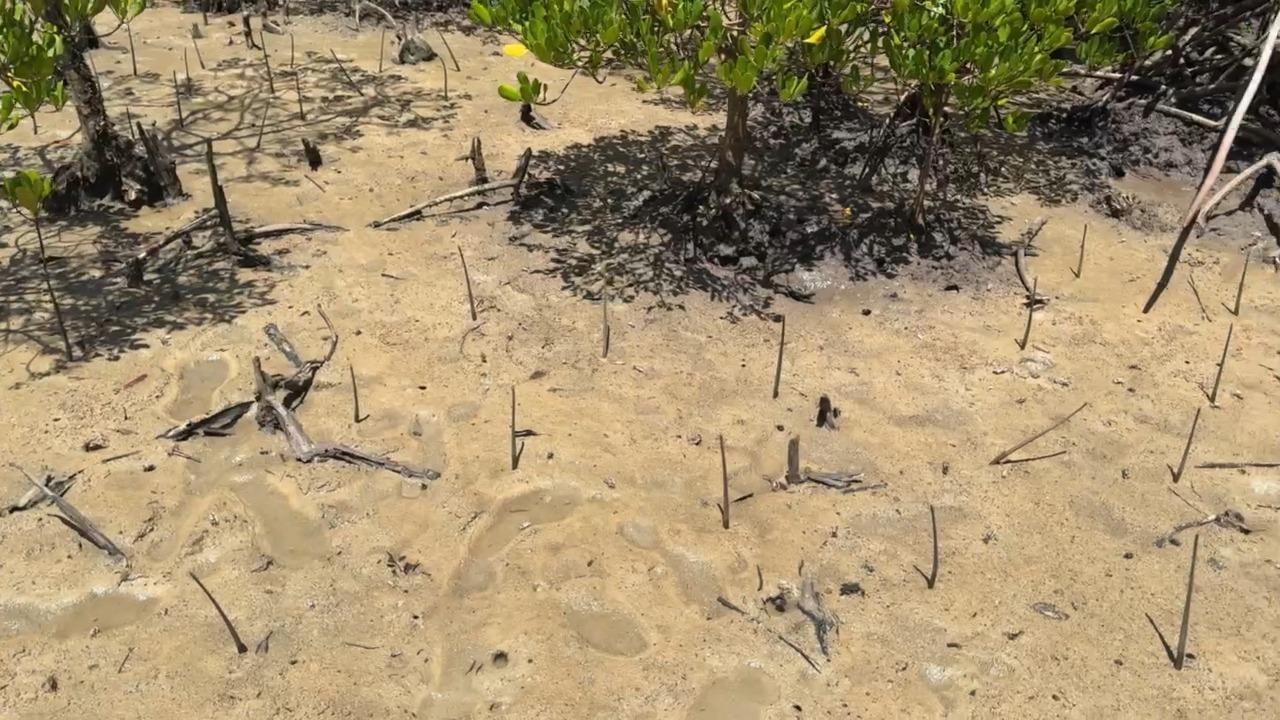Tree: (0, 169, 74, 361), (989, 402, 1087, 465), (189, 573, 245, 652), (1174, 534, 1199, 669), (1173, 406, 1201, 483), (1211, 324, 1233, 403), (332, 49, 363, 96), (458, 245, 477, 320), (1021, 277, 1037, 351), (772, 316, 786, 397), (1234, 252, 1251, 315), (719, 435, 730, 530), (437, 30, 461, 72), (260, 31, 276, 93), (928, 505, 939, 589), (172, 68, 186, 127), (189, 29, 205, 67), (601, 282, 609, 357), (350, 363, 360, 421), (256, 104, 269, 148), (1078, 224, 1087, 279), (128, 22, 137, 76), (295, 71, 304, 119), (511, 386, 516, 470), (440, 56, 449, 100), (184, 48, 192, 96), (379, 29, 384, 72), (290, 32, 295, 68)
